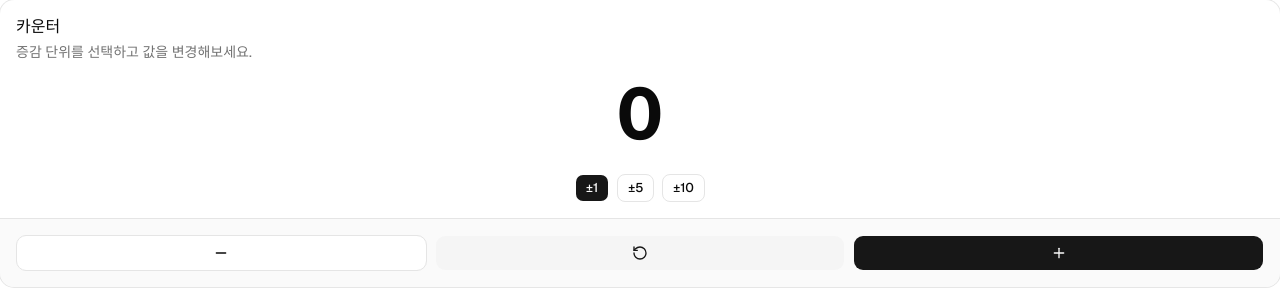
Scenario: CounterCard › 증감 단위를 선택하면 해당 단위로 증가하고 선택 상태가 표시된다
Click the button "±5": (636,188) [617, 174, 654, 202]
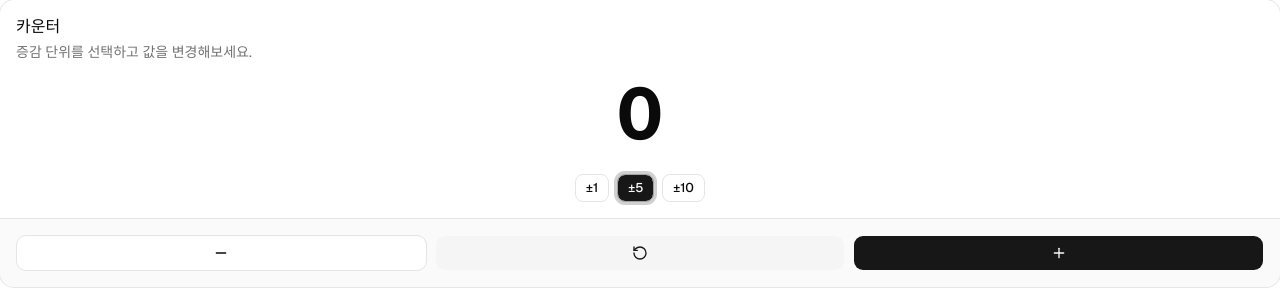
Expected: the button "±5" is pressed, [617, 174, 654, 202]
Click the button named "증가": (1059,253) [853, 235, 1264, 271]
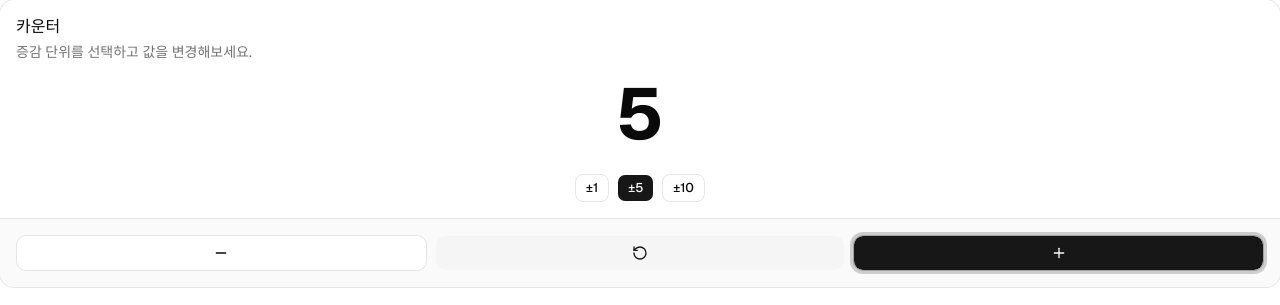
Expected: the text "5" is shown, [617, 78, 663, 150]
